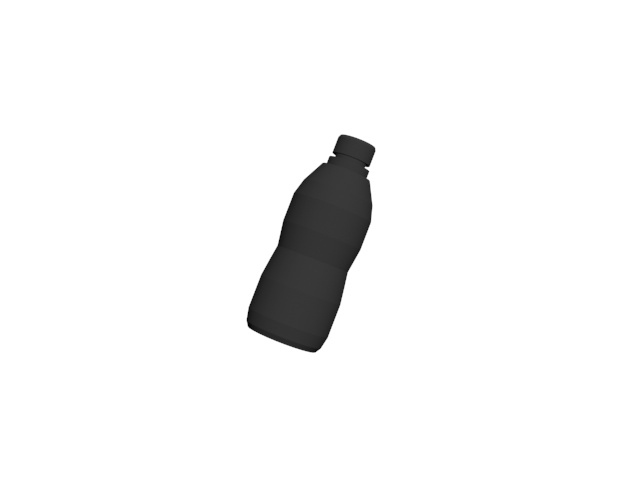bottle: (241, 129, 376, 360)
